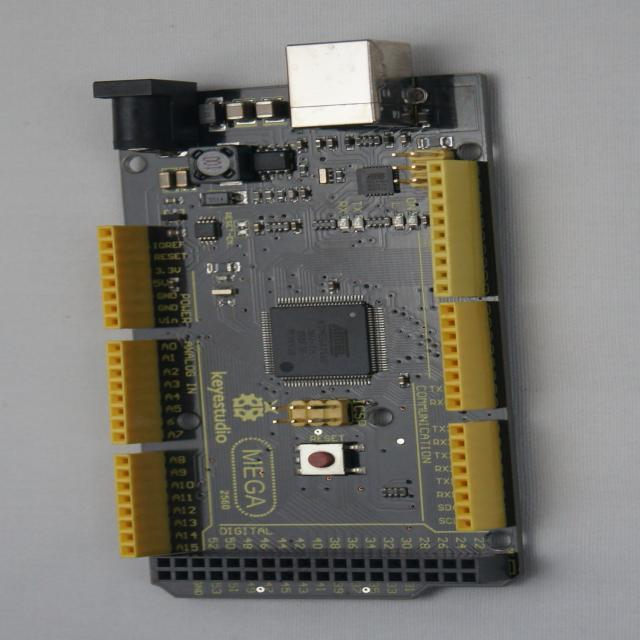Arduino Mega 2560 -Yellow-: (95, 41, 521, 596)
